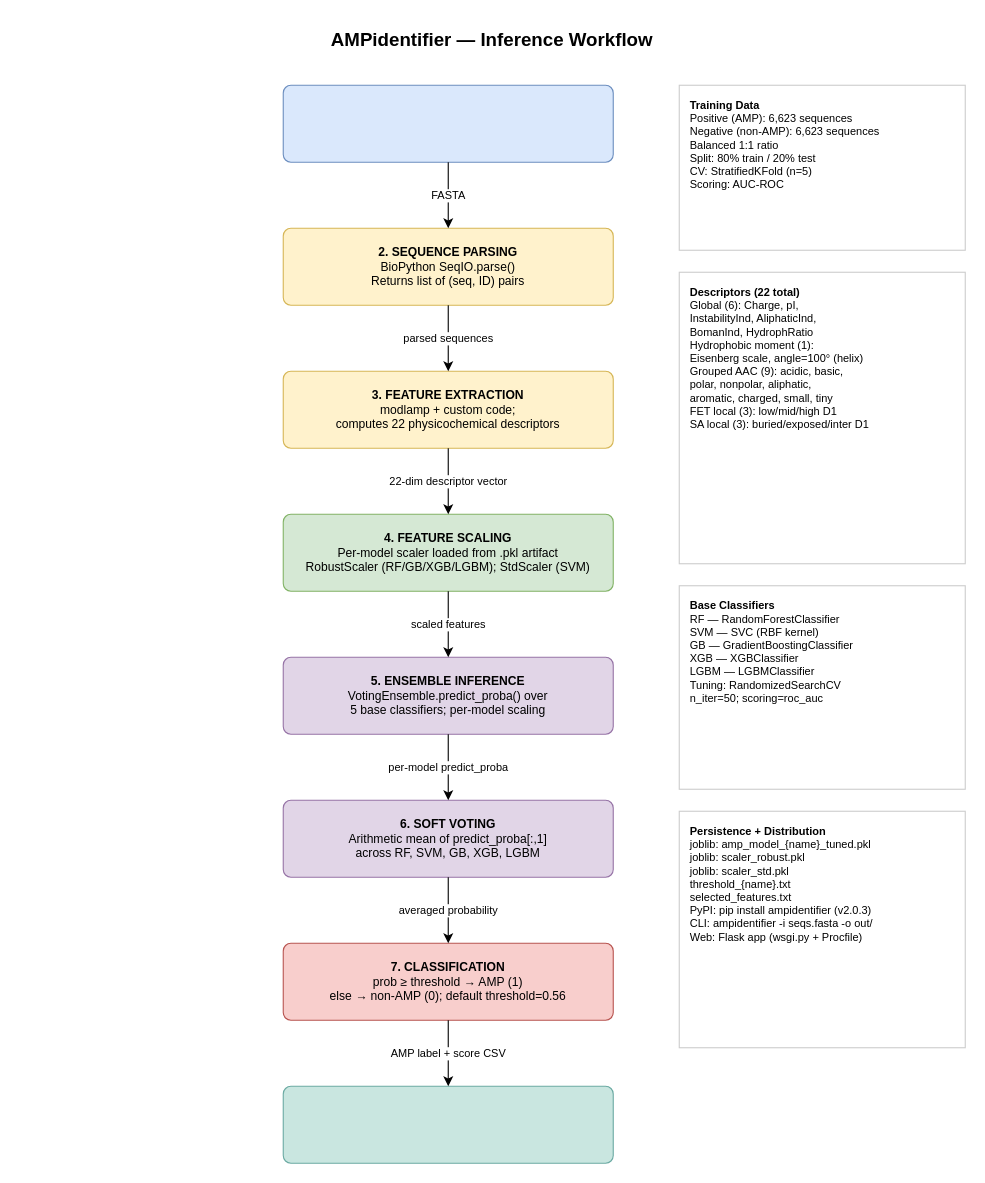
Image size: 985x1183. Some labels were removed from this diagram. The shapes that lost their labels are listed below. From the top down, each one's centre as x and y in pixels, then its label:
[447,123]: 1. INPUT FASTA file via CLI flag -i Unique sequence ID per header
[447,1124]: 8. OUTPUT CSV: ID, sequence, probability_AMP, prediction, label (AMP / non-AMP)
